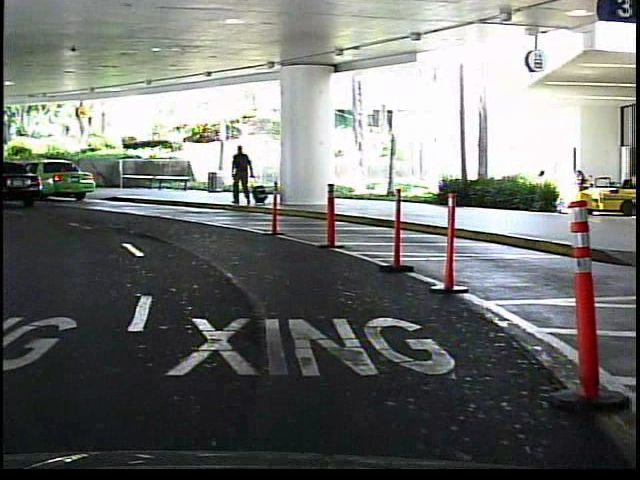person: (228, 141, 258, 211)
